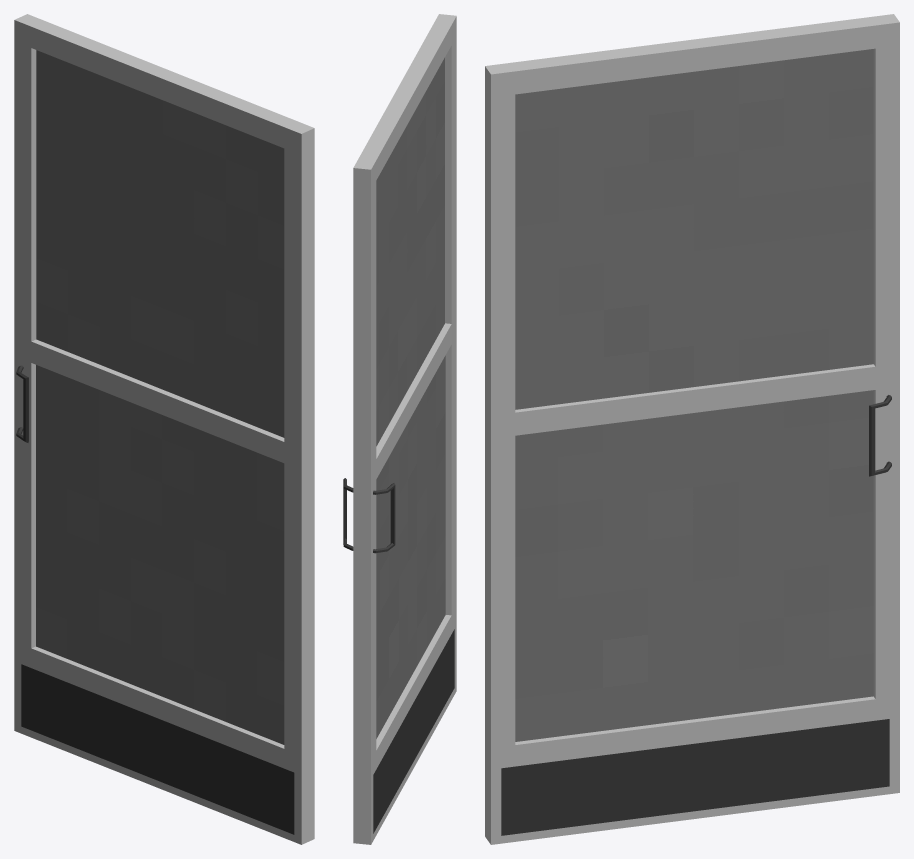
File: SW_corridor__R_lobby_R_Aula_Ovi_2_Ikkunaa_004.FBX
3 views of the same model, side by side, from view 1: azimuth 30°, elevation 25°; view 2: azimuth 150°, elevation 25°; view 3: azimuth 270°, elevation 25° (orthographic). The views are drawn at different scales.
Parts seen in each view (by area): view 1: SW_corridor__R_lobby_R_Aula_Ovi_2_Ikkunaa_004; view 2: SW_corridor__R_lobby_R_Aula_Ovi_2_Ikkunaa_004; view 3: SW_corridor__R_lobby_R_Aula_Ovi_2_Ikkunaa_004.
Boxes of the visible parts, x1,y1,x2,y2 form: SW_corridor__R_lobby_R_Aula_Ovi_2_Ikkunaa_004: [14, 14, 314, 844]; SW_corridor__R_lobby_R_Aula_Ovi_2_Ikkunaa_004: [343, 14, 456, 844]; SW_corridor__R_lobby_R_Aula_Ovi_2_Ikkunaa_004: [485, 14, 899, 844].
Size of the model in its own units: 36.7 by 99.58 by 204.
